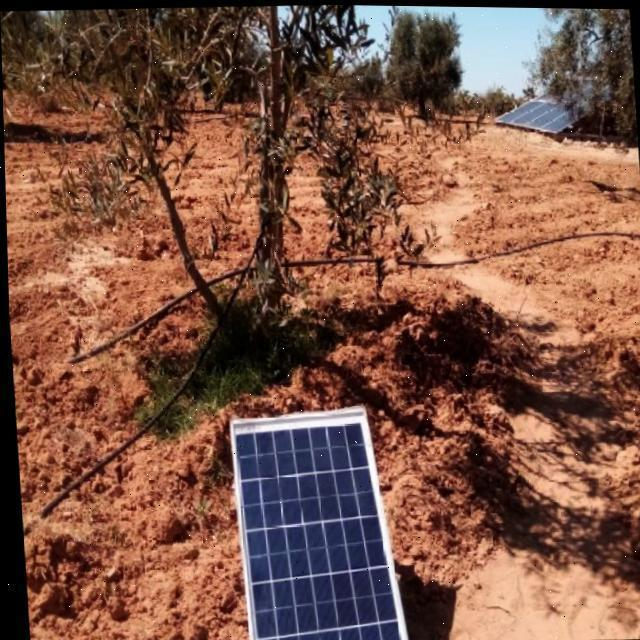Normal Solar Panel: (227, 405, 409, 640)
